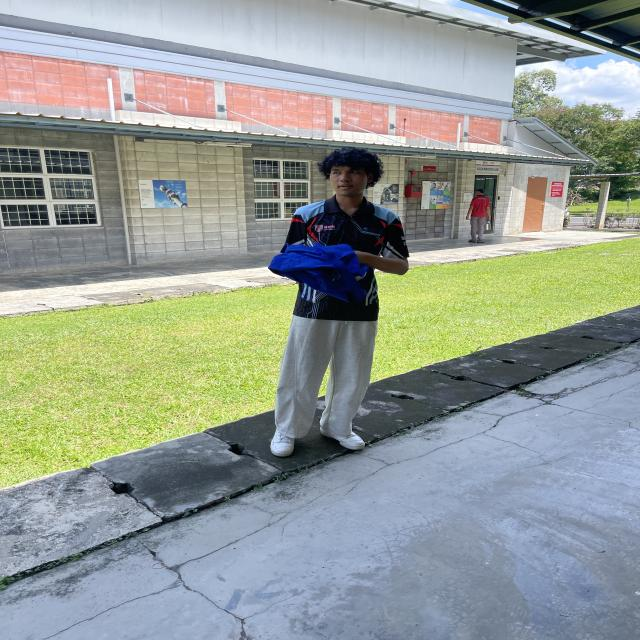person_without_labcoat: (269, 148, 409, 457)
